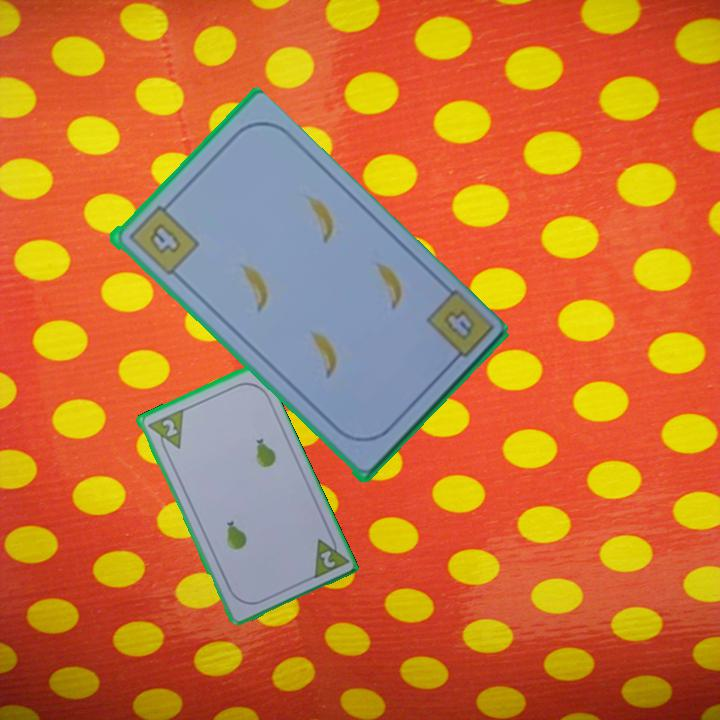2p: (308, 529, 350, 582), (158, 415, 180, 439)
4b: (420, 287, 495, 371), (124, 198, 201, 278)
